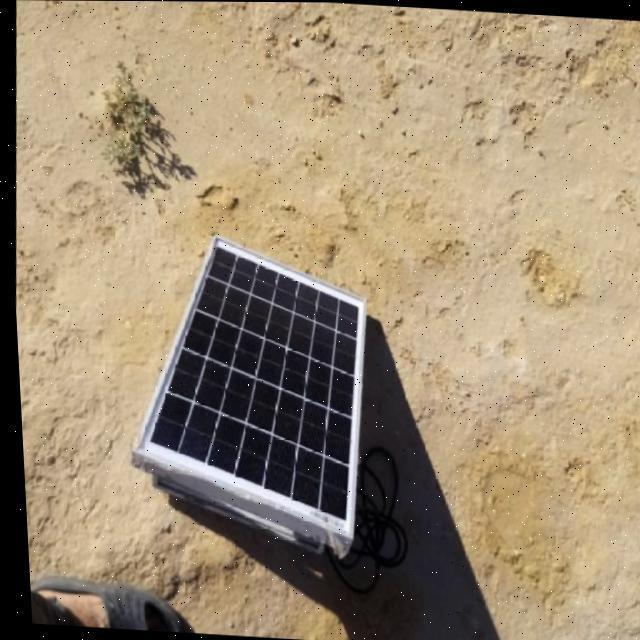Normal Solar Panel: (117, 230, 376, 537)
